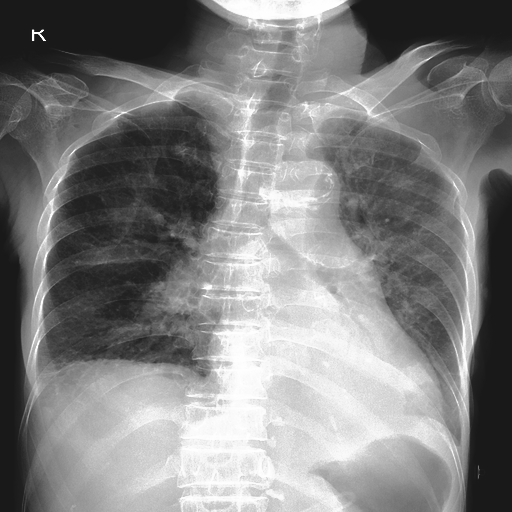Calcification: (28, 345, 62, 408), (29, 365, 54, 389)
Consolidation: (272, 157, 341, 226)
Nodule/Mass: (203, 313, 443, 424)
Other lesion: (342, 233, 383, 298)
Pleural effusion: (26, 362, 58, 396)
Pleural thickening: (144, 251, 205, 329), (41, 359, 159, 381)
Pneumothorax: (41, 359, 159, 381)
